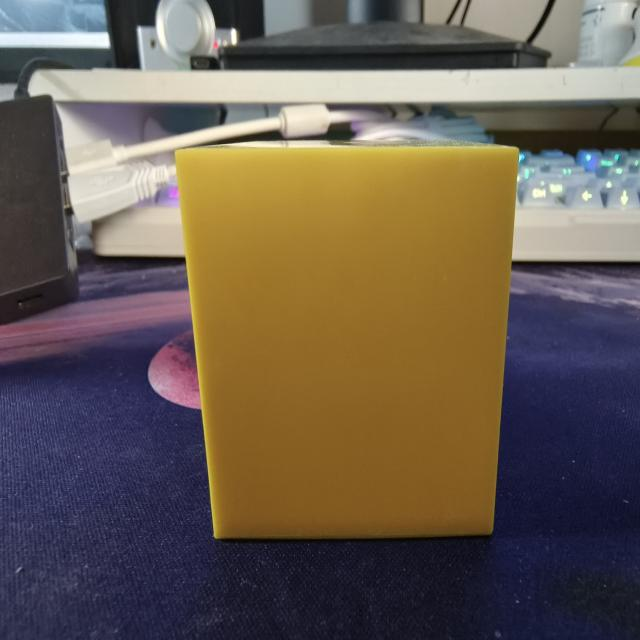yellow: (153, 104, 528, 554)
